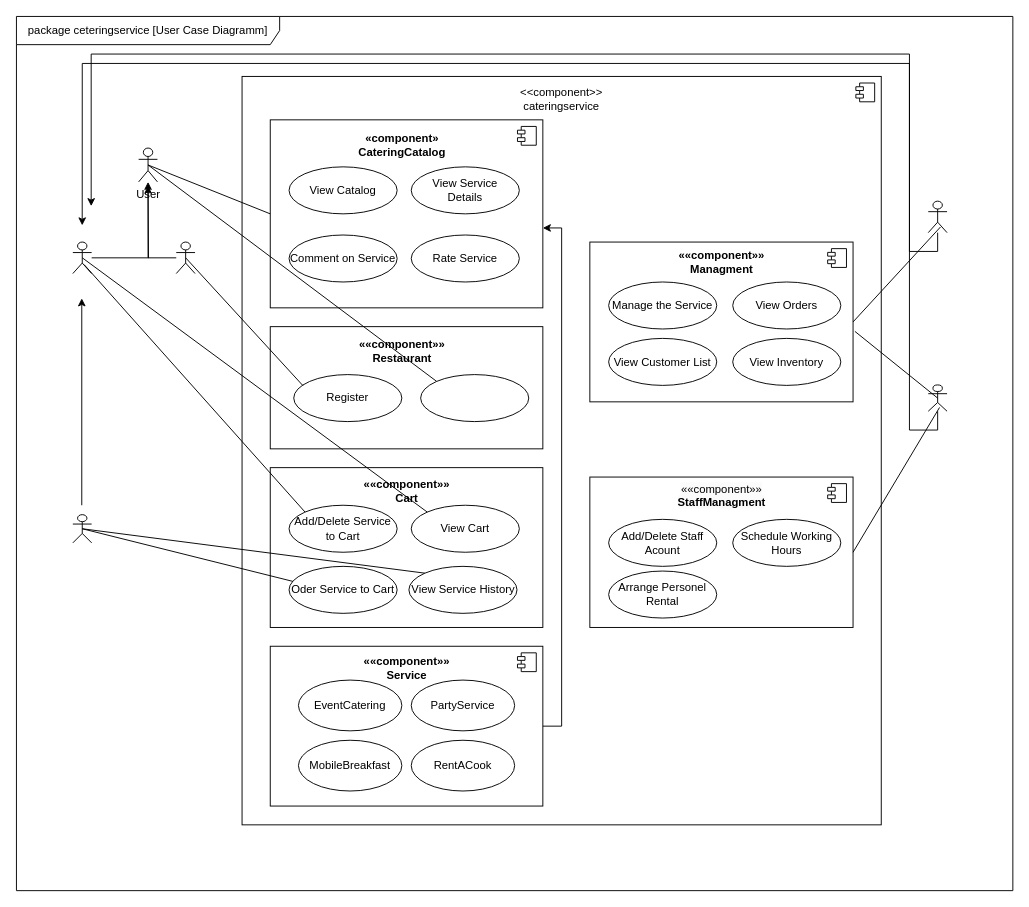
The diagram is 1029 pixels wide and 907 high, and some of its shapes have lost their labels. Here are the shapes that lost their labels. From the top down, the centre of each, then its label:
(937,216): Staff
(82,257): Registered User
(185,257): Unanthenticated User
(474,398): Login/Logout
(937,397): Boss
(82,528): Customer
